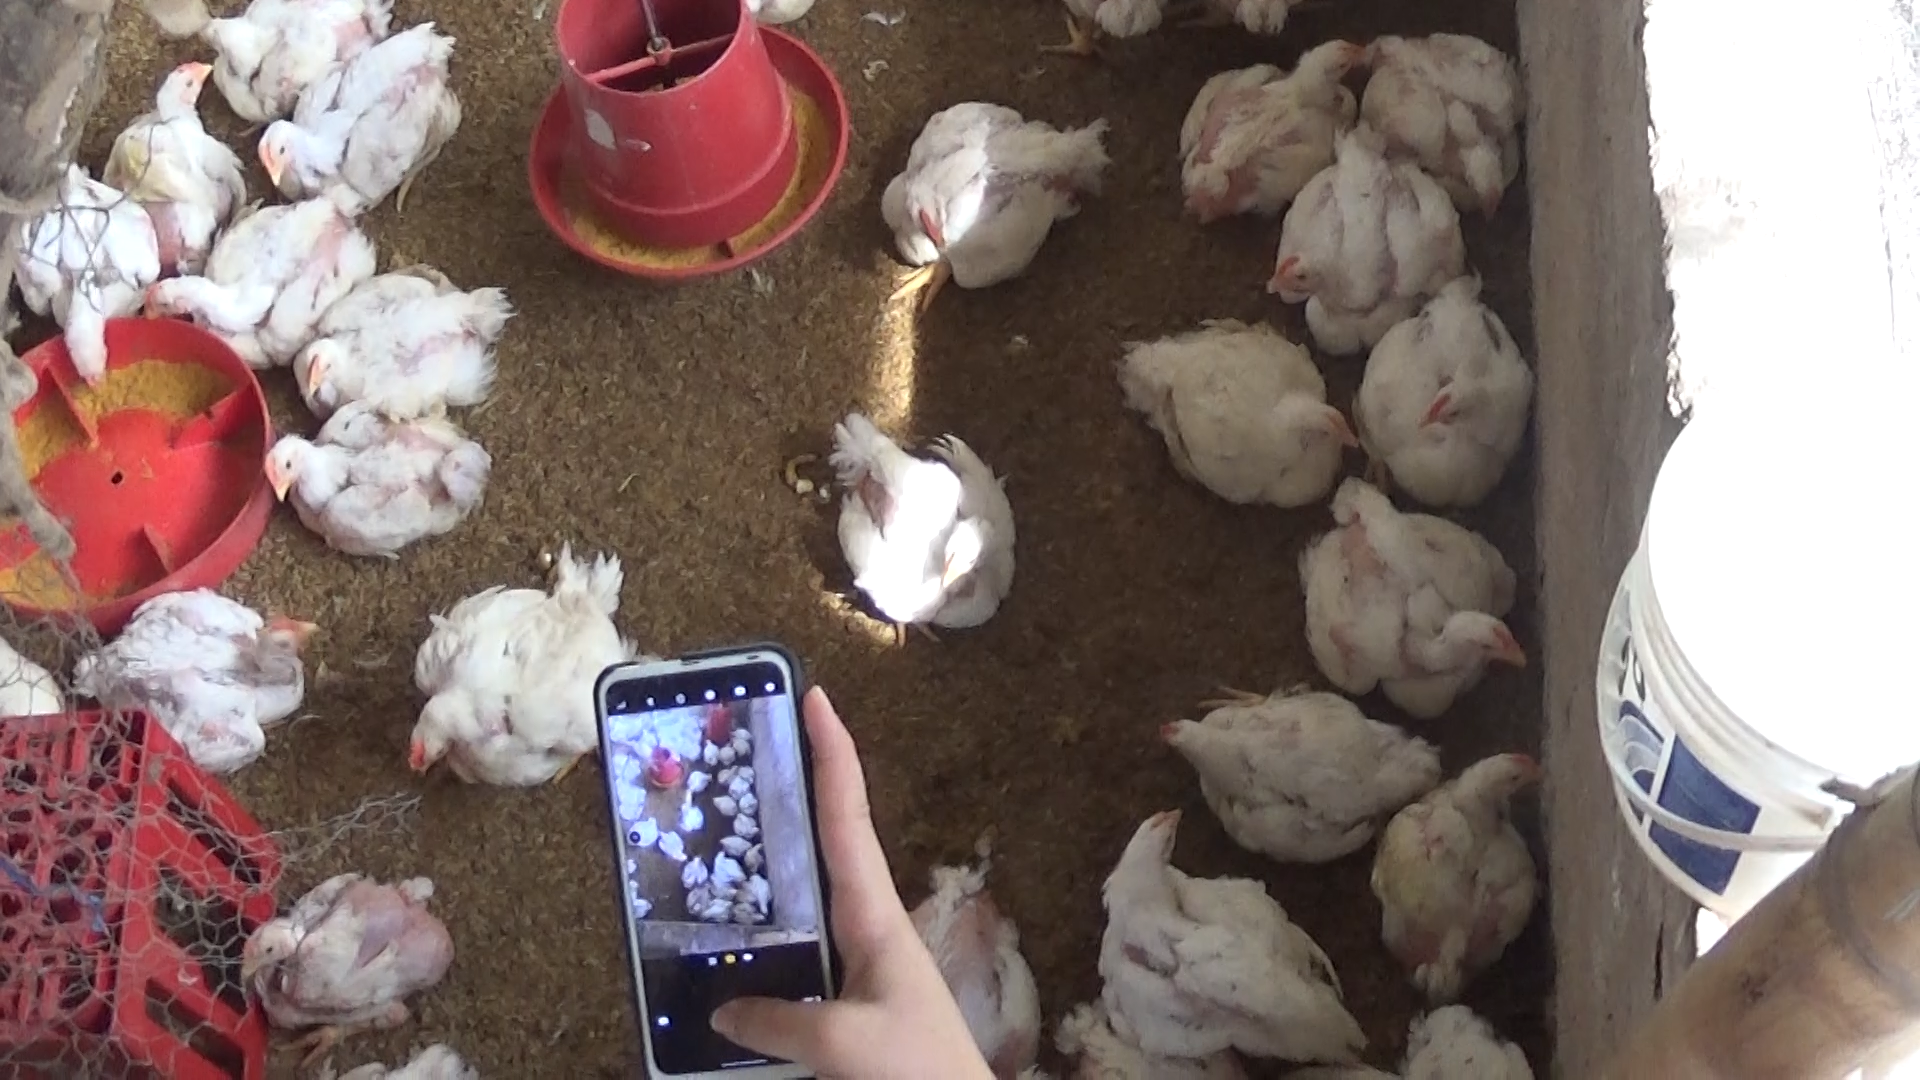Pollos: (1073, 803, 1386, 1063), (1286, 448, 1538, 721), (394, 549, 653, 794), (1139, 640, 1436, 848), (870, 67, 1108, 307), (1098, 298, 1354, 517), (1354, 731, 1560, 1002), (1266, 109, 1470, 343), (1352, 272, 1542, 522), (814, 397, 1010, 637), (154, 178, 372, 378), (71, 582, 324, 753), (1168, 24, 1366, 232), (233, 852, 465, 1029), (255, 18, 471, 204), (1360, 24, 1547, 216), (268, 386, 471, 558), (287, 272, 517, 409), (18, 169, 150, 392), (82, 51, 236, 237), (206, 0, 390, 127)
